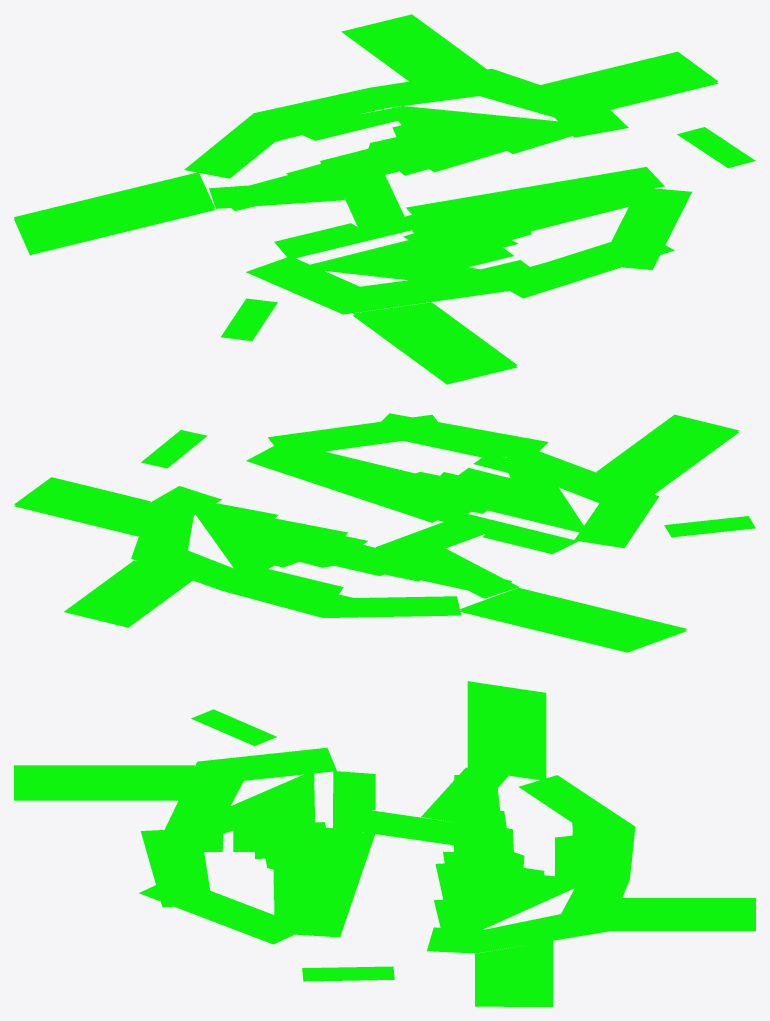
The model's file is s02b_xb2-floor.glb.
3 views of the same model, one above another, from view 1: azimuth 30°, elevation 25°; view 2: azimuth 150°, elevation 25°; view 3: azimuth 270°, elevation 25° (orthographic). The views are drawn at different scales.
Parts seen in each view (by area): view 1: collision_floor-colonly; view 2: collision_floor-colonly; view 3: collision_floor-colonly.
Boxes of the visible parts, x1,y1,x2,y2 form: collision_floor-colonly: (14,14,755,384); collision_floor-colonly: (14,413,755,652); collision_floor-colonly: (14,681,755,1006).
Size of the model in its own units: 58.58 by 0.2383 by 56.73.
